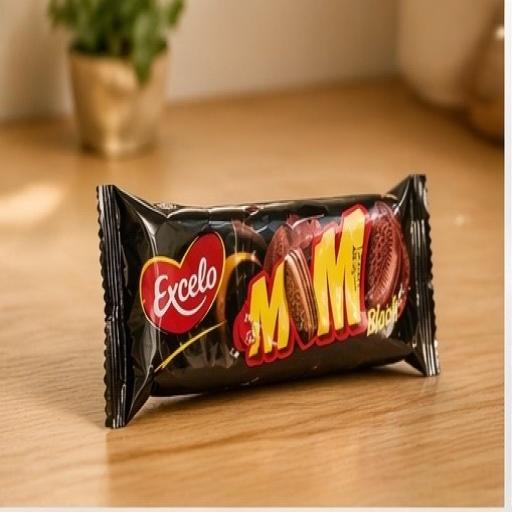MOMO: (75, 113, 459, 442)
